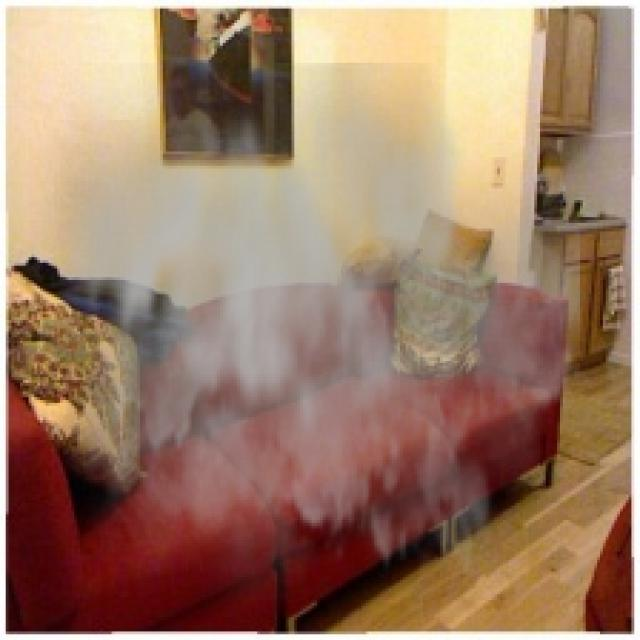smoke: (29, 63, 580, 628)
